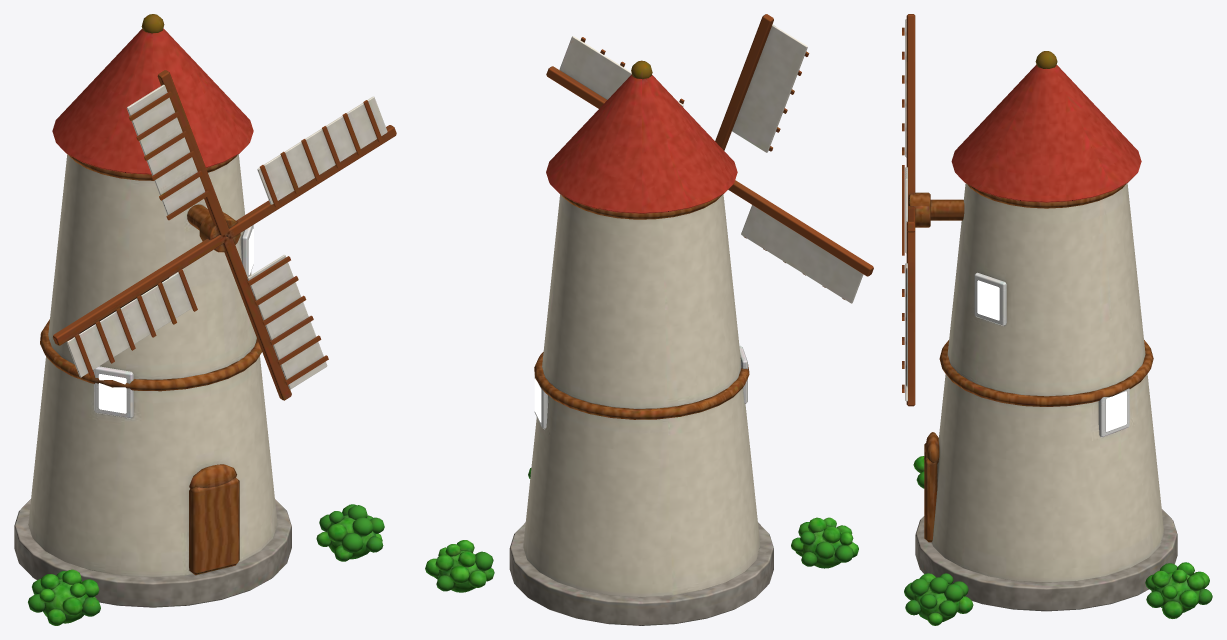
Rendered from windmill.glb.
The picture shows the model from 3 angles, left to right: view 1: azimuth 30°, elevation 25°; view 2: azimuth 150°, elevation 25°; view 3: azimuth 270°, elevation 25°; orthographic projection. The views are drawn at different scales.
Parts seen in each view (by area): view 1: windmill, spinZ_sails; view 2: windmill, spinZ_sails; view 3: windmill, spinZ_sails.
Part boxes in pixels (x1=…): windmill: x1=14, y1=14, x2=384, y2=625; spinZ_sails: x1=53, y1=70, x2=396, y2=400; windmill: x1=425, y1=60, x2=858, y2=625; spinZ_sails: x1=546, y1=14, x2=873, y2=303; windmill: x1=904, y1=51, x2=1212, y2=625; spinZ_sails: x1=902, y1=14, x2=930, y2=406.
Size of the model in its own units: 1.71 by 2.6 by 1.42.
1 material, 1 textured.
